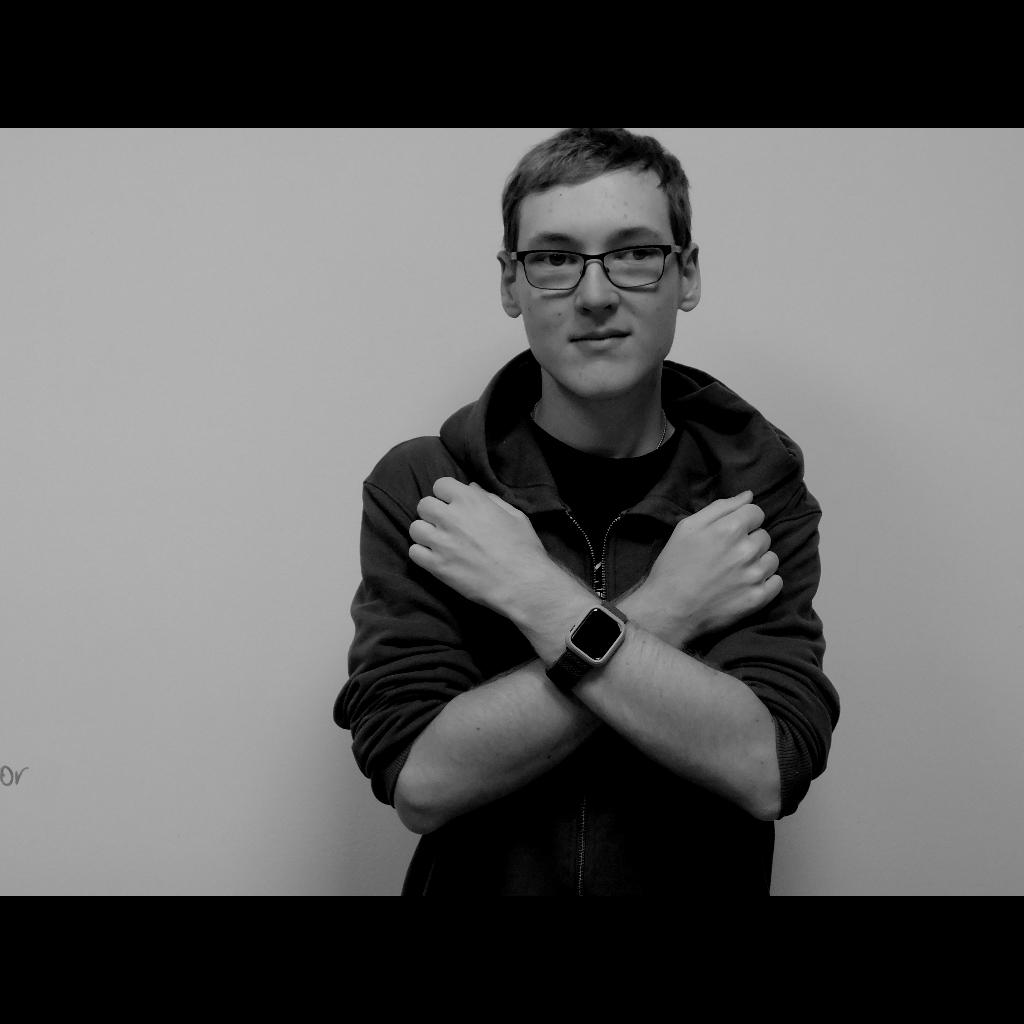love: (410, 478, 784, 634)
